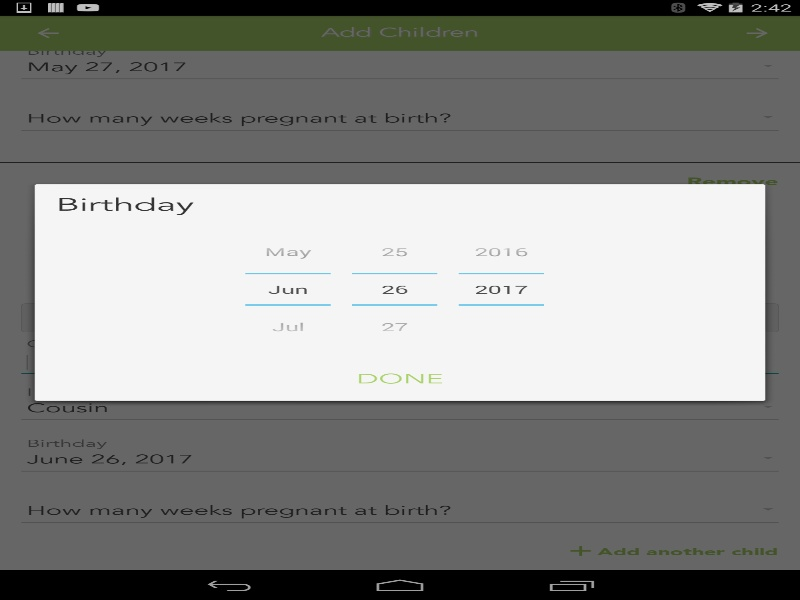Button: (458, 233, 544, 274), (245, 233, 330, 274), (245, 304, 330, 345), (352, 233, 437, 274), (352, 304, 437, 345)
Input: (458, 274, 544, 304), (245, 274, 330, 304), (352, 274, 437, 304)
